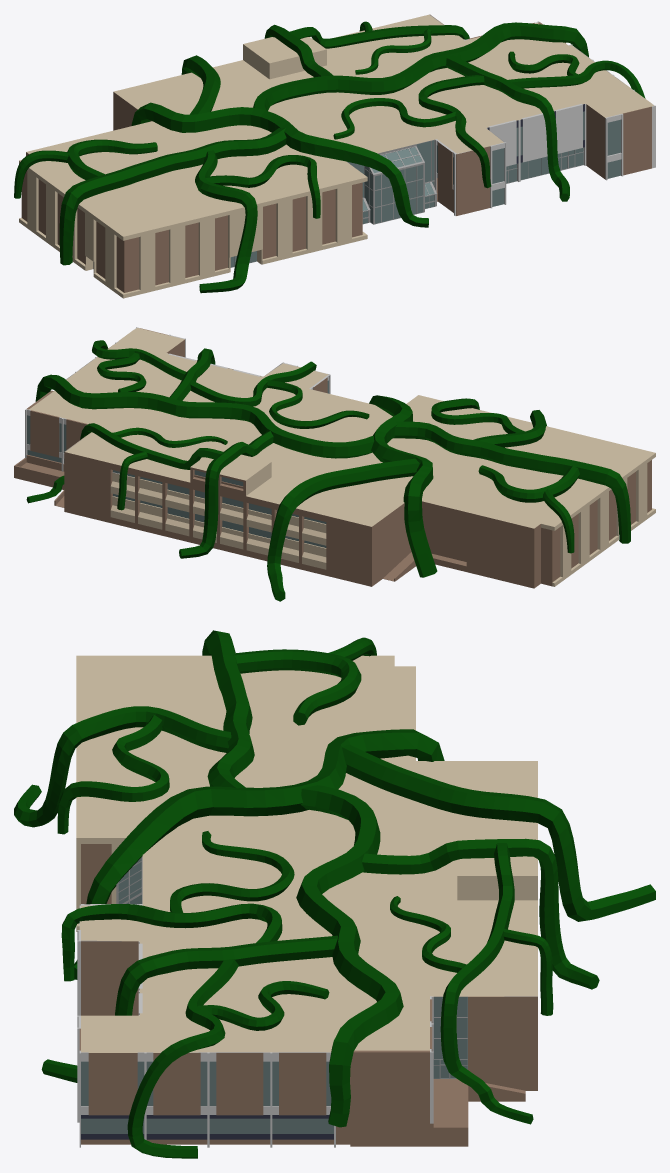
Rendered from Kaufman_Vines.fbx.
3 views of the same model, one above another, from view 1: azimuth 30°, elevation 25°; view 2: azimuth 150°, elevation 25°; view 3: azimuth 270°, elevation 25° (orthographic). The views are drawn at different scales.
Parts seen in each view (by area): view 1: Kaufman, Vines; view 2: Kaufman, Vines; view 3: Kaufman, Vines.
Boxes of the visible parts, bbox=[...] form: Kaufman: bbox=[19, 14, 655, 298]; Vines: bbox=[14, 21, 645, 293]; Kaufman: bbox=[14, 327, 655, 588]; Vines: bbox=[26, 340, 630, 601]; Kaufman: bbox=[76, 655, 537, 1147]; Vines: bbox=[14, 630, 655, 1158].
Size of the model in its own units: 45.56 by 7.47 by 29.06.
